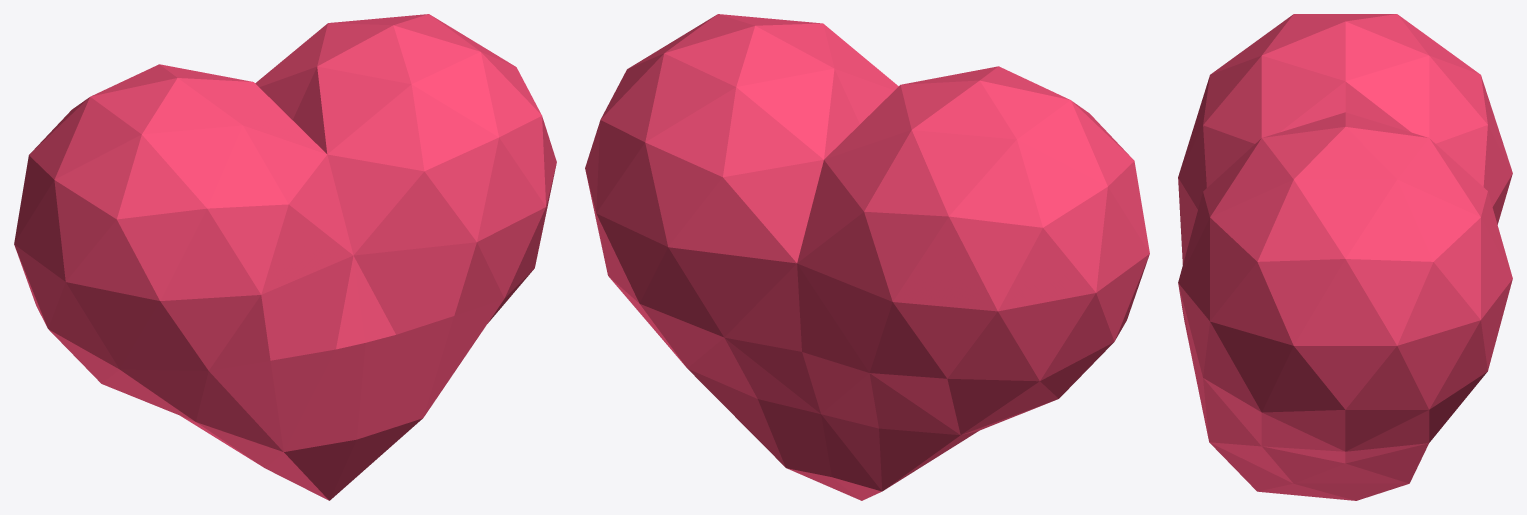
The model's file is prop-heart.glb.
3 renders of one model, left to right at view 1: azimuth 30°, elevation 25°; view 2: azimuth 150°, elevation 25°; view 3: azimuth 270°, elevation 25°, orthographic. The views are drawn at different scales.
Parts seen in each view (by area): view 1: Heart_Full; view 2: Heart_Full; view 3: Heart_Full.
Boxes of the visible parts, x1,y1,x2,y2 form: Heart_Full: (14,14,556,500); Heart_Full: (585,14,1149,500); Heart_Full: (1178,14,1512,500).
Size of the model in its own units: 0.9714 by 0.8057 by 0.5728.
